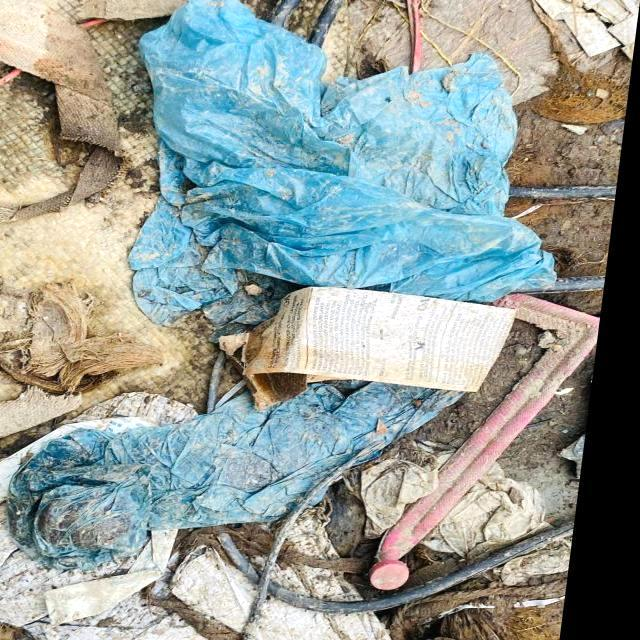polythene: (92, 11, 607, 312), (11, 379, 498, 538)
